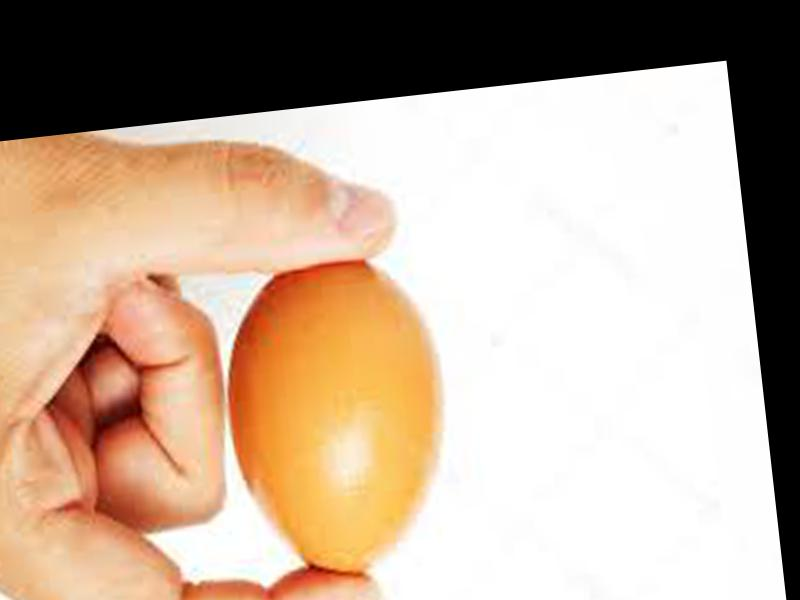Eggs: (212, 251, 464, 591)
